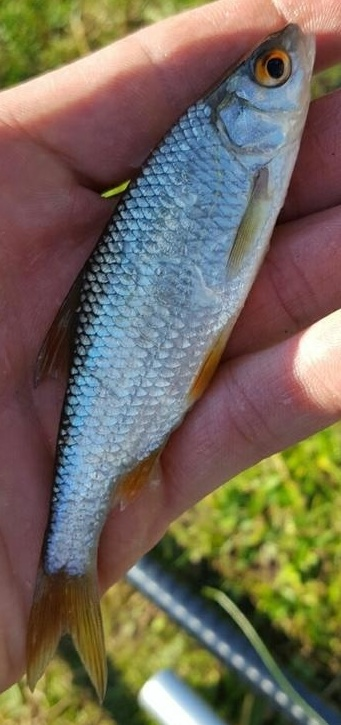Rutilus rutilus: (20, 20, 321, 705)
